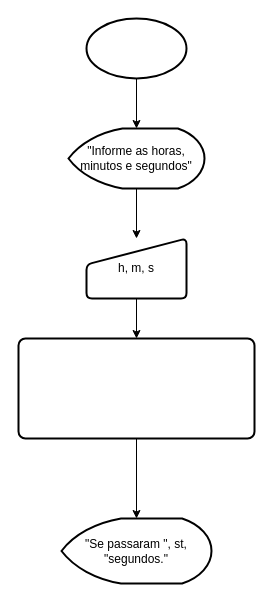
This 272x601 diagram has some shape labels left out. Each missing label, with the centre of its shape:
"Inicio" belongs at [136,48].
"st <- (h * 60* 60)+ (m * 60) + s" belongs at [136,388].
